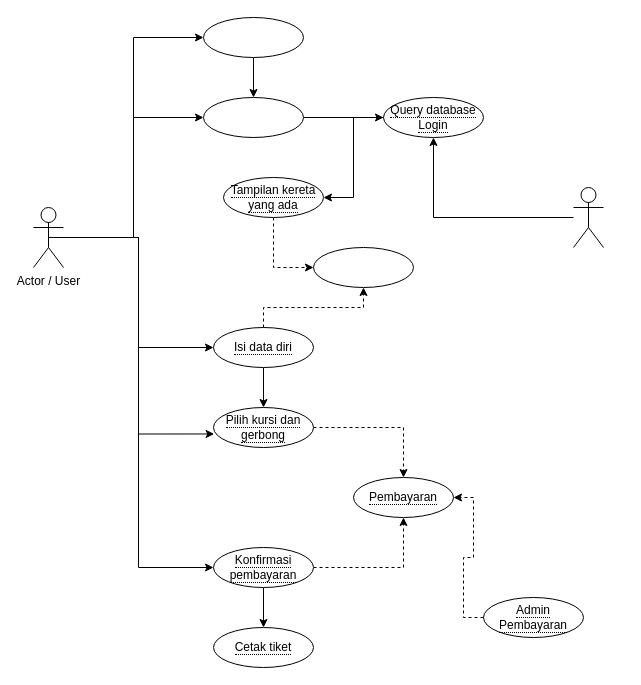
Image size: 641x685. Some labels were removed from this diagram. Each missing label, with the centre of its shape:
"Actor / Admin" belongs at [588,217].
"Informasi statisiun, asal, tujuan dan jadwal" belongs at [253,117].
"Konfirmasi pemesanan" belongs at [363,267].
"Mulai navigasi Aplikasi KAI" belongs at [253,37].
